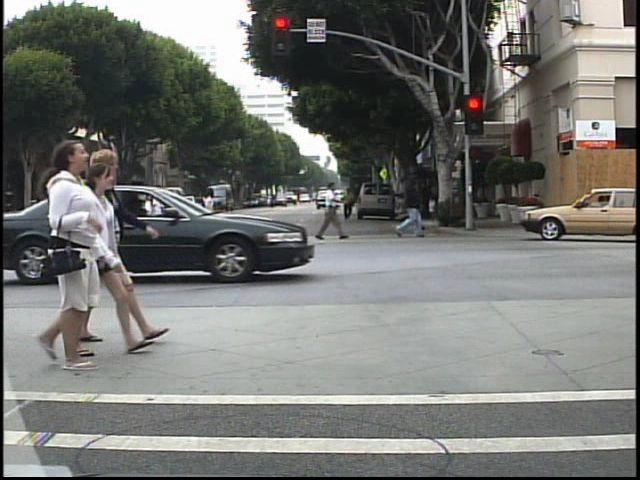person: (22, 143, 118, 376), (76, 162, 149, 365), (88, 146, 154, 350), (392, 167, 434, 240), (318, 176, 345, 241), (145, 188, 170, 250), (79, 189, 104, 246), (197, 183, 220, 241), (72, 184, 91, 247), (341, 186, 357, 221)
